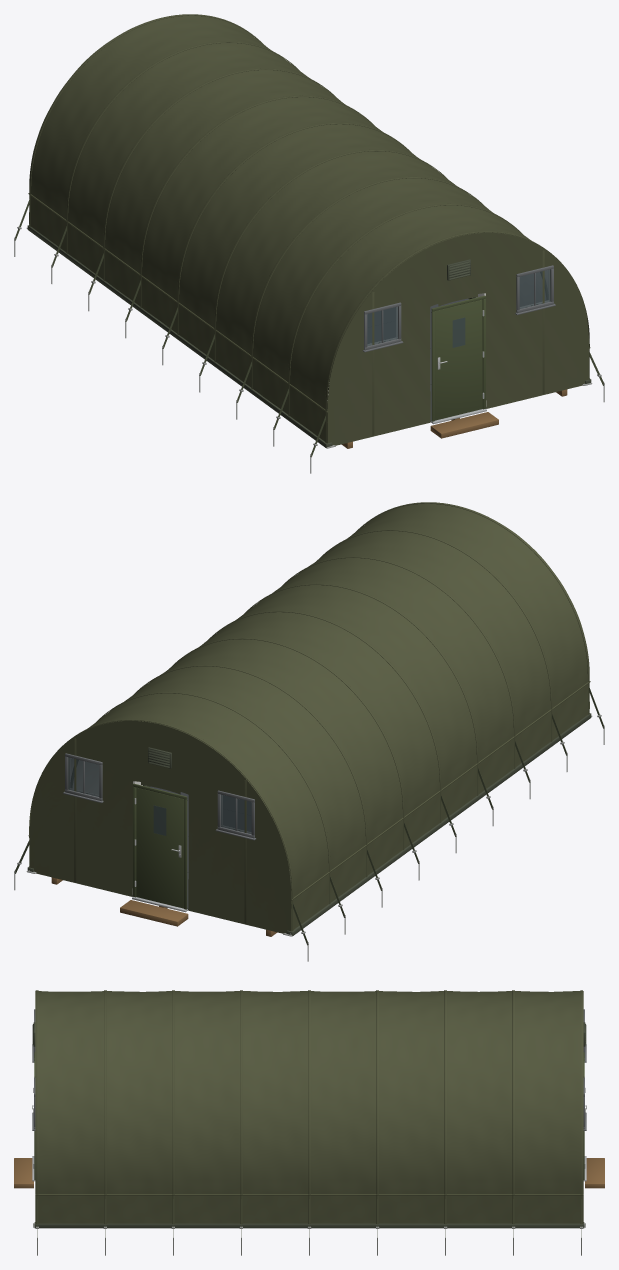
Rendered from series-4-deployed.glb.
The picture shows the model from 3 angles, top to bottom: view 1: azimuth 30°, elevation 25°; view 2: azimuth 150°, elevation 25°; view 3: azimuth 270°, elevation 25°; orthographic projection. The views are drawn at different scales.
Parts seen in each view (by area): view 1: SERIES4_shelter; view 2: SERIES4_shelter; view 3: SERIES4_shelter.
Part boxes in pixels (<box>): SERIES4_shelter: <box>14,14,604,473</box>; SERIES4_shelter: <box>14,502,604,961</box>; SERIES4_shelter: <box>14,990,604,1255</box>.
Size of the model in its own units: 5.61 by 3.68 by 10.59.
